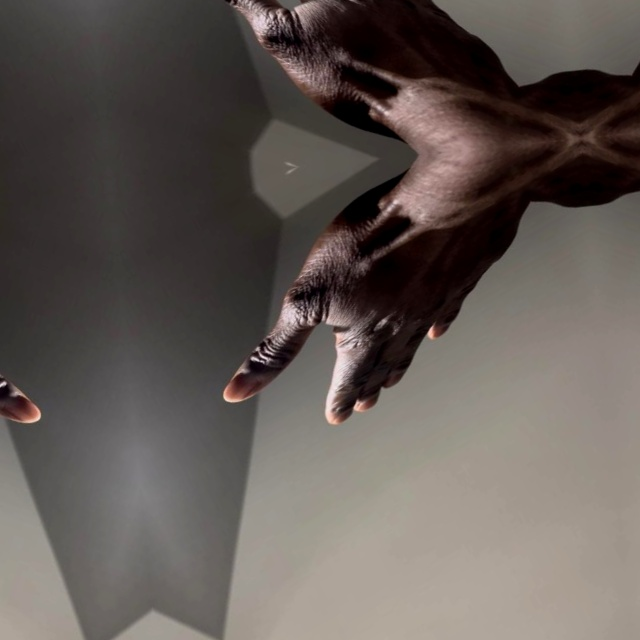Paper: (569, 0, 640, 136)
